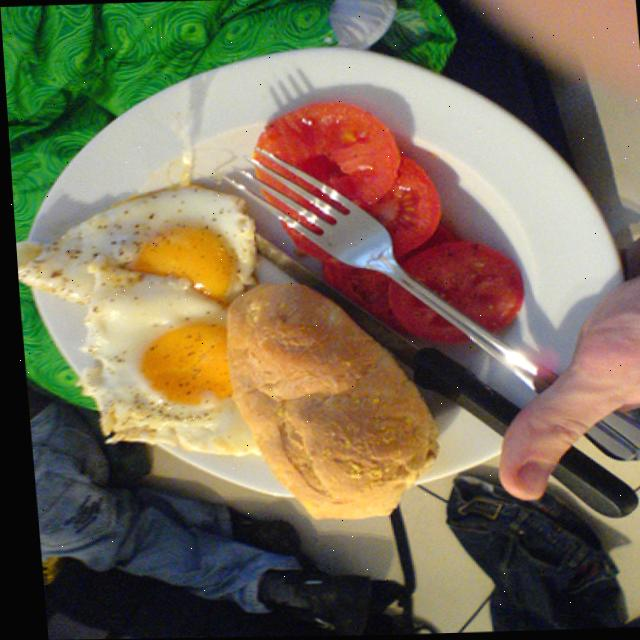鸡蛋料理: (24, 179, 272, 465)
